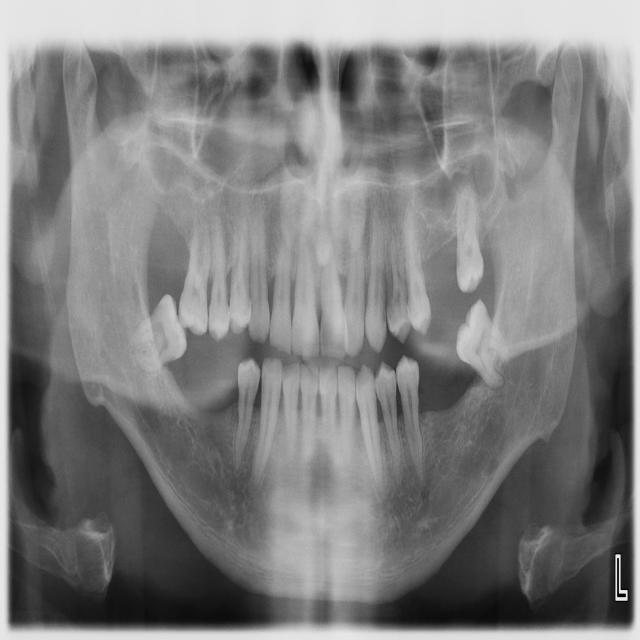mandibula: (61, 34, 582, 602)
